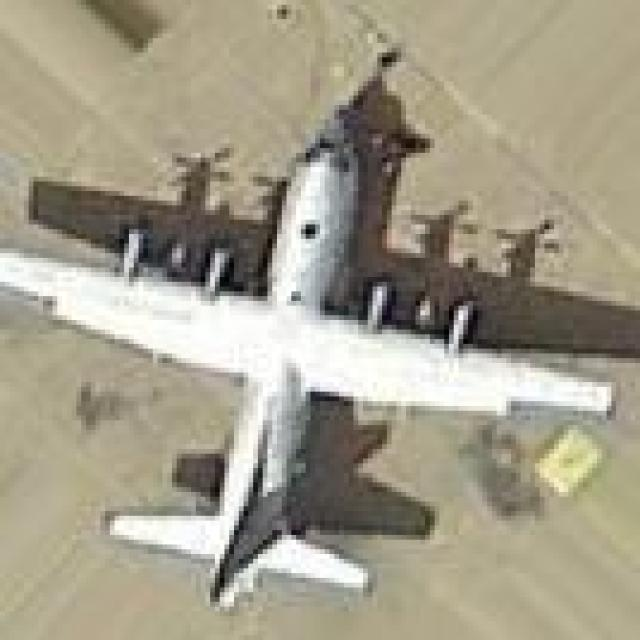C-130_TopDown: (0, 65, 640, 613)
